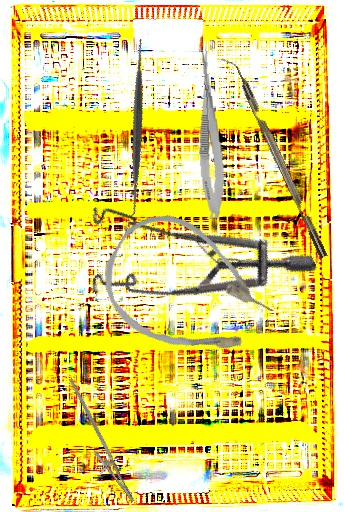Cannula: (84, 196, 290, 386)
Chopper: (219, 51, 328, 264)
Micro Scissor: (188, 42, 229, 220)
Needle Holder: (45, 377, 150, 509)
Spatula Surgical: (42, 32, 232, 222)
Speculum: (63, 135, 318, 356)
